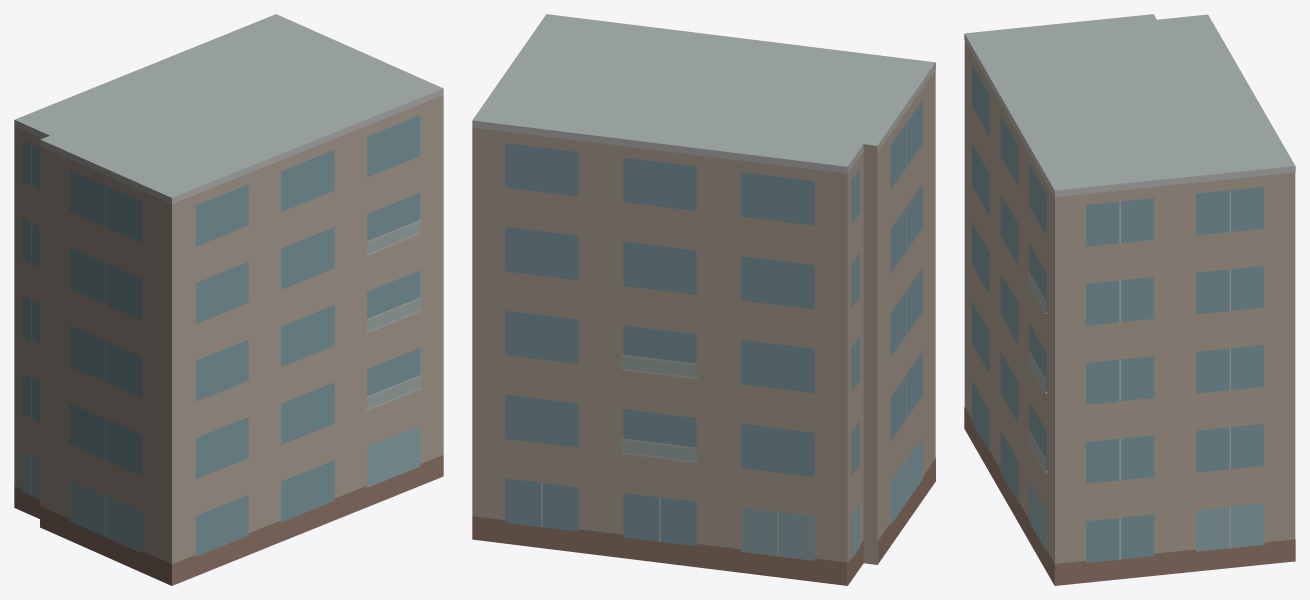
File: survey-upis-32949813.glb
3 views of the same model, side by side, from view 1: azimuth 30°, elevation 25°; view 2: azimuth 150°, elevation 25°; view 3: azimuth 270°, elevation 25° (orthographic). The views are drawn at different scales.
Parts seen in each view (by area): view 1: survey-upis-32949813.tmp; view 2: survey-upis-32949813.tmp; view 3: survey-upis-32949813.tmp.
Boxes of the visible parts, box(x1,y1,x2,y2) form: survey-upis-32949813.tmp: box(14, 14, 443, 585); survey-upis-32949813.tmp: box(472, 14, 935, 585); survey-upis-32949813.tmp: box(964, 14, 1295, 585).
Size of the model in its own units: 14.09 by 14.7 by 11.16.
